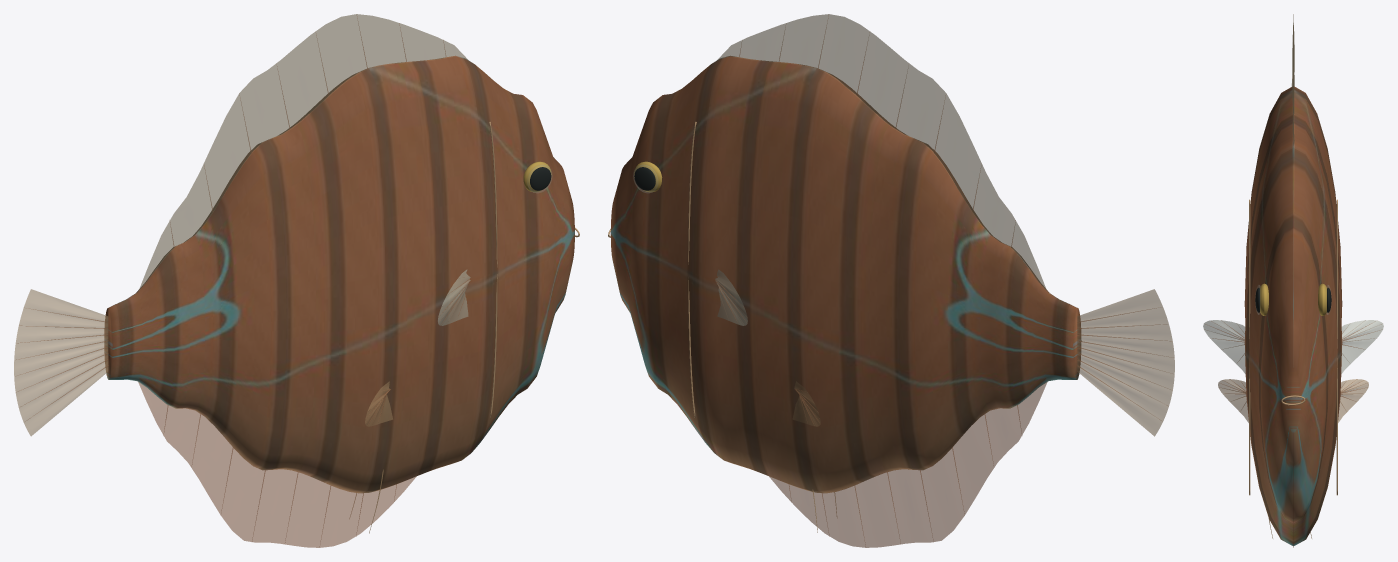
File: discus-mobile.glb
The picture shows the model from 3 angles, left to right: view 1: azimuth 30°, elevation 25°; view 2: azimuth 150°, elevation 25°; view 3: azimuth 270°, elevation 25°; orthographic projection.
Visible parts, largest first — view 1: skin, dorsal, anal, tail, dorsal-ray, pectoral-left, pelvic-left; view 2: skin, dorsal, anal, tail, dorsal-ray, pectoral-left, pelvic-left; view 3: skin, pectoral-left, pelvic-left, operculum, eye-iris--1, dorsal-ray, dorsal.
Part boxes in pixels (x1,y1,x2,y2): skin: [104, 55, 574, 493]; dorsal: [139, 14, 468, 289]; anal: [138, 382, 416, 547]; tail: [14, 289, 108, 436]; dorsal-ray: [16, 16, 469, 542]; pectoral-left: [438, 270, 470, 325]; pelvic-left: [349, 381, 392, 533]; skin: [610, 56, 1081, 493]; dorsal: [717, 14, 1046, 290]; anal: [769, 382, 1047, 547]; tail: [1077, 289, 1174, 436]; dorsal-ray: [715, 15, 1171, 546]; pectoral-left: [715, 269, 747, 325]; pelvic-left: [792, 381, 836, 532]; skin: [1244, 86, 1342, 546]; pectoral-left: [1203, 320, 1383, 373]; pelvic-left: [1218, 379, 1368, 538]; operculum: [1249, 199, 1337, 495]; eye-iris--1: [1259, 283, 1327, 315]; dorsal-ray: [1205, 320, 1381, 409]; dorsal: [1292, 14, 1294, 155].
Bounding box in the file's own units: 0.5972 × 0.5359 × 0.167.
Materials: 11 (1 with a texture image).
